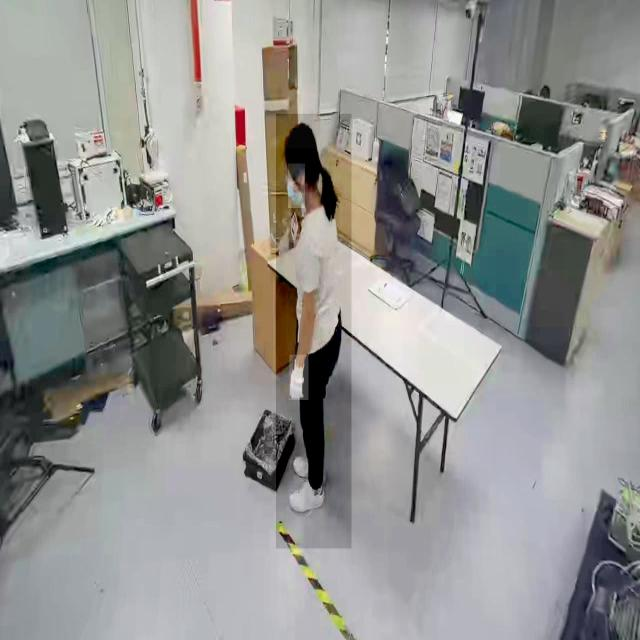face_mask: (288, 164, 305, 208)
hand_glove: (289, 355, 309, 401)
head_nohelmet: (284, 121, 318, 149)
person: (276, 114, 352, 549)
shoes: (288, 476, 325, 514)
